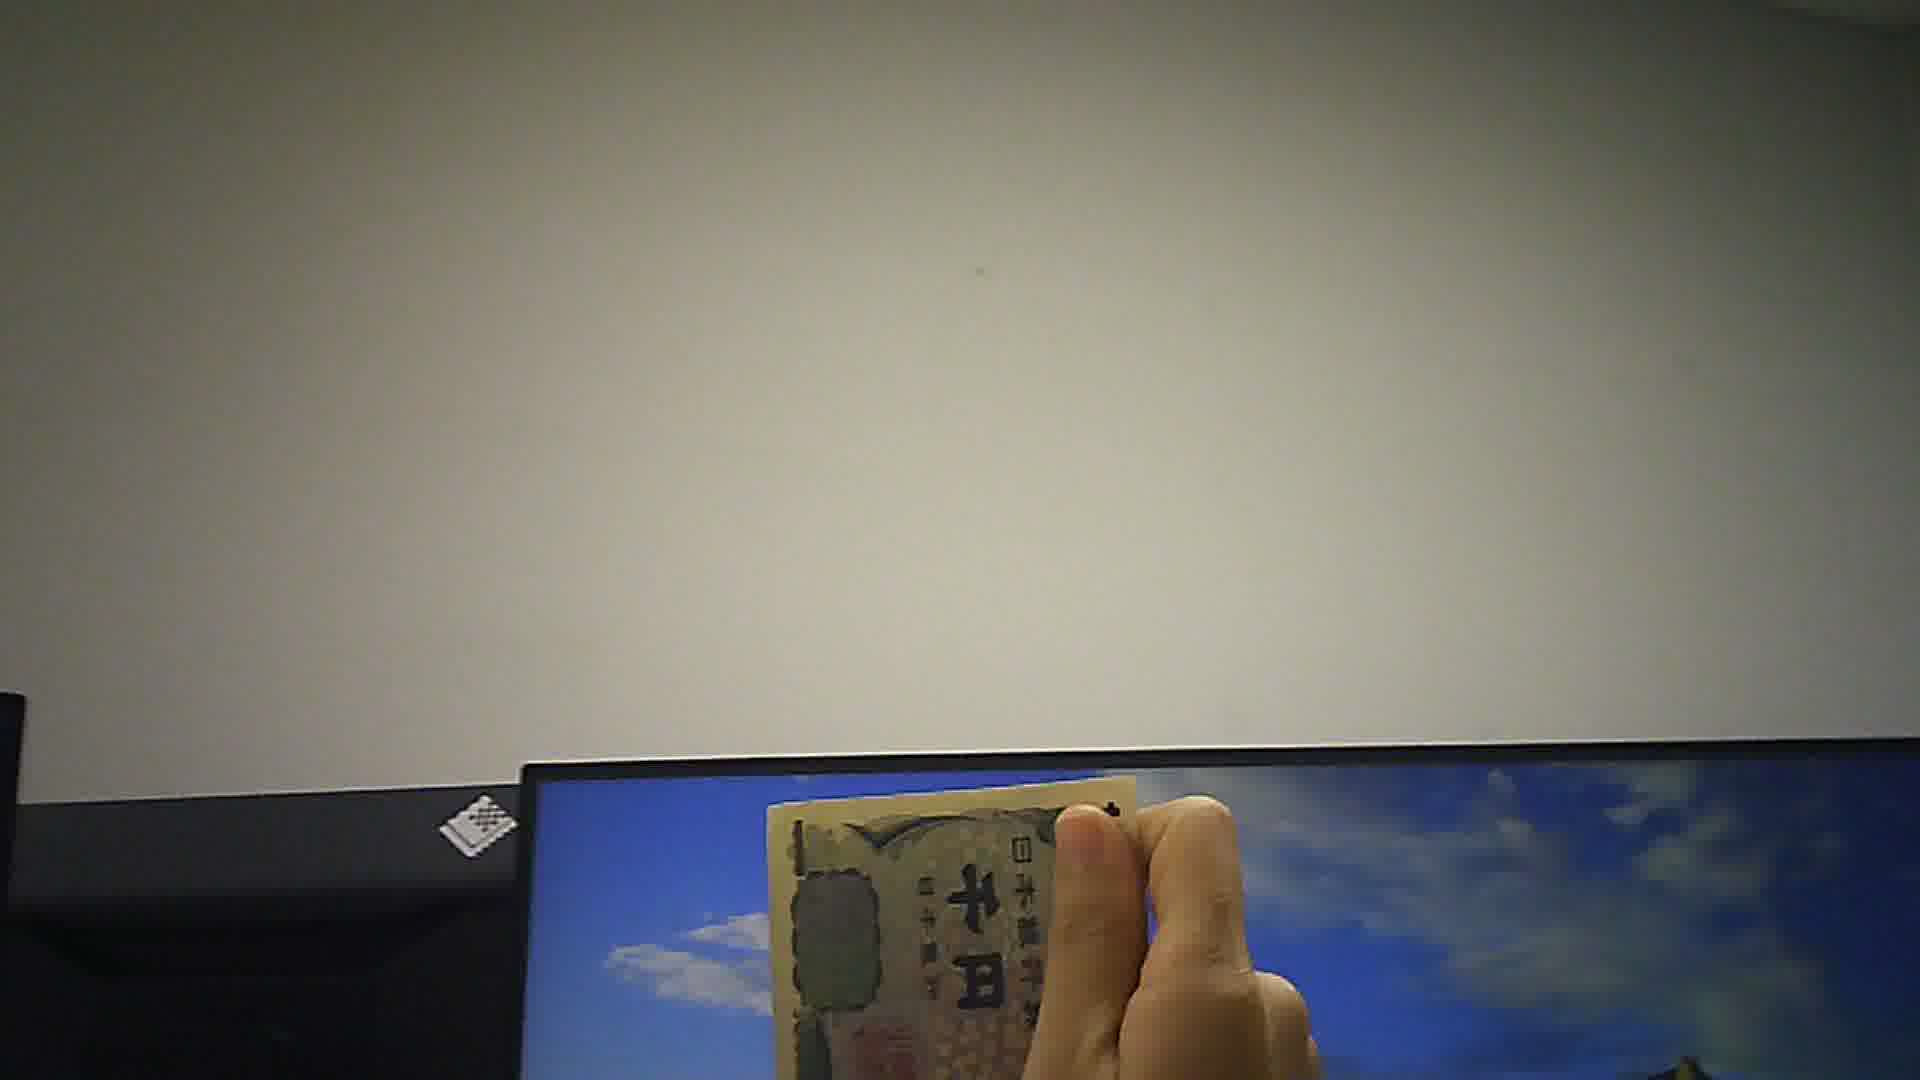1,000 Yen: (760, 777, 1146, 1079)
